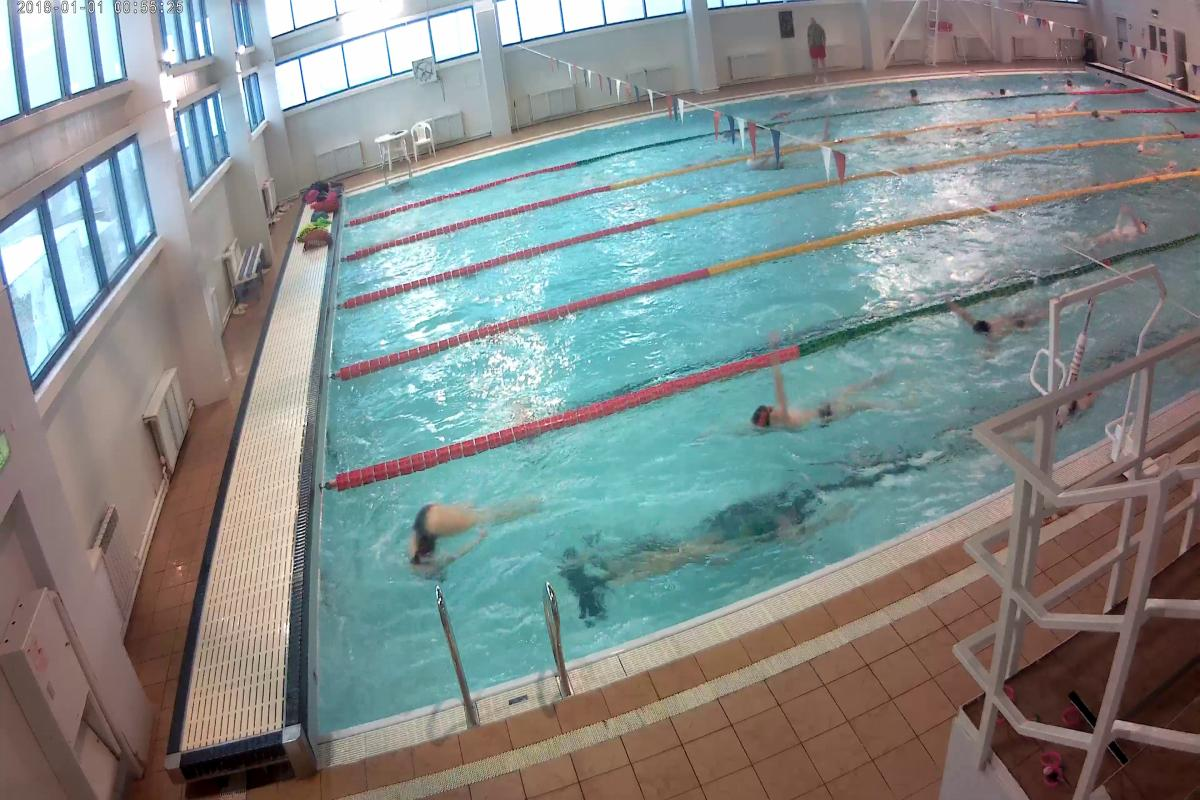swimmer: (647, 497, 835, 576), (405, 489, 532, 584), (739, 379, 889, 442), (957, 307, 1034, 354), (1093, 203, 1157, 247), (747, 154, 786, 182)
